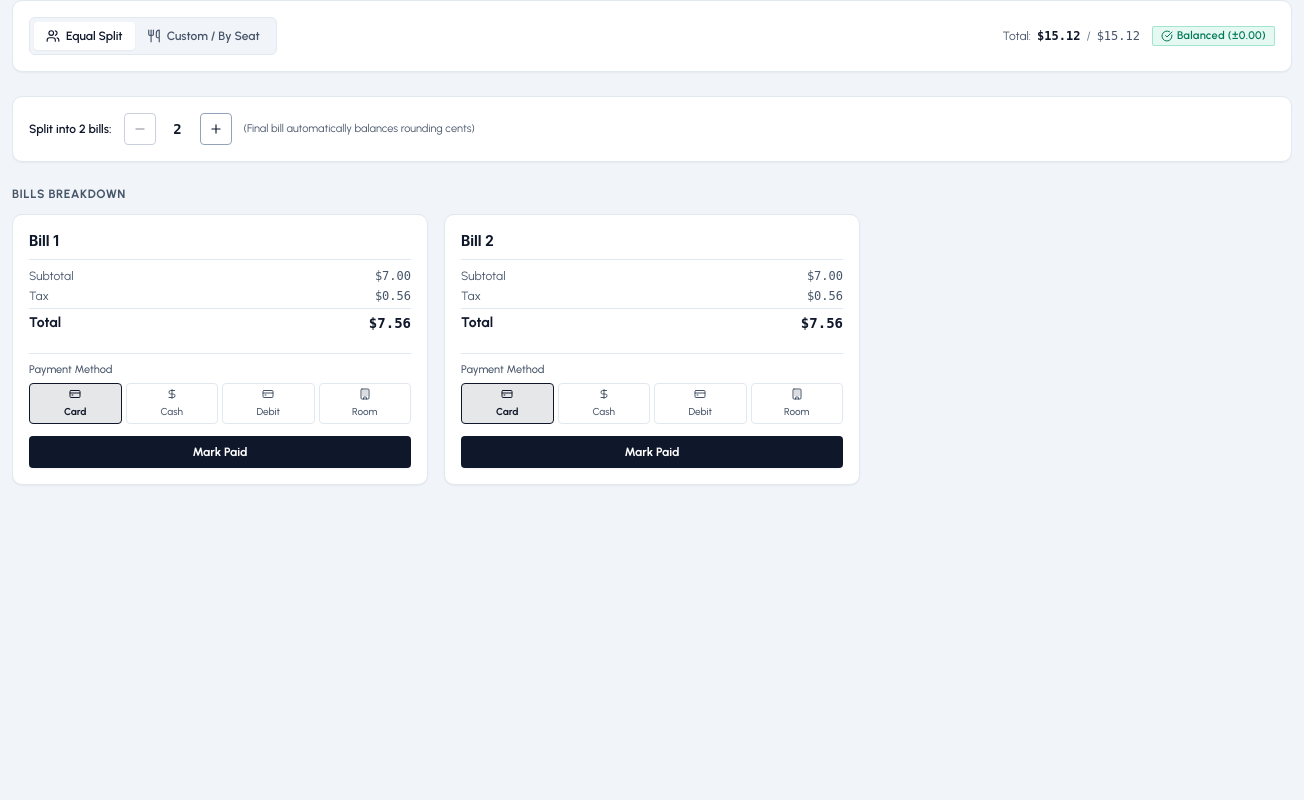
SplitBillAssignment › switches to Custom mode and renders item allocation matrix
Click the button "Custom / By Seat" at (203, 36), box [135, 22, 272, 50]
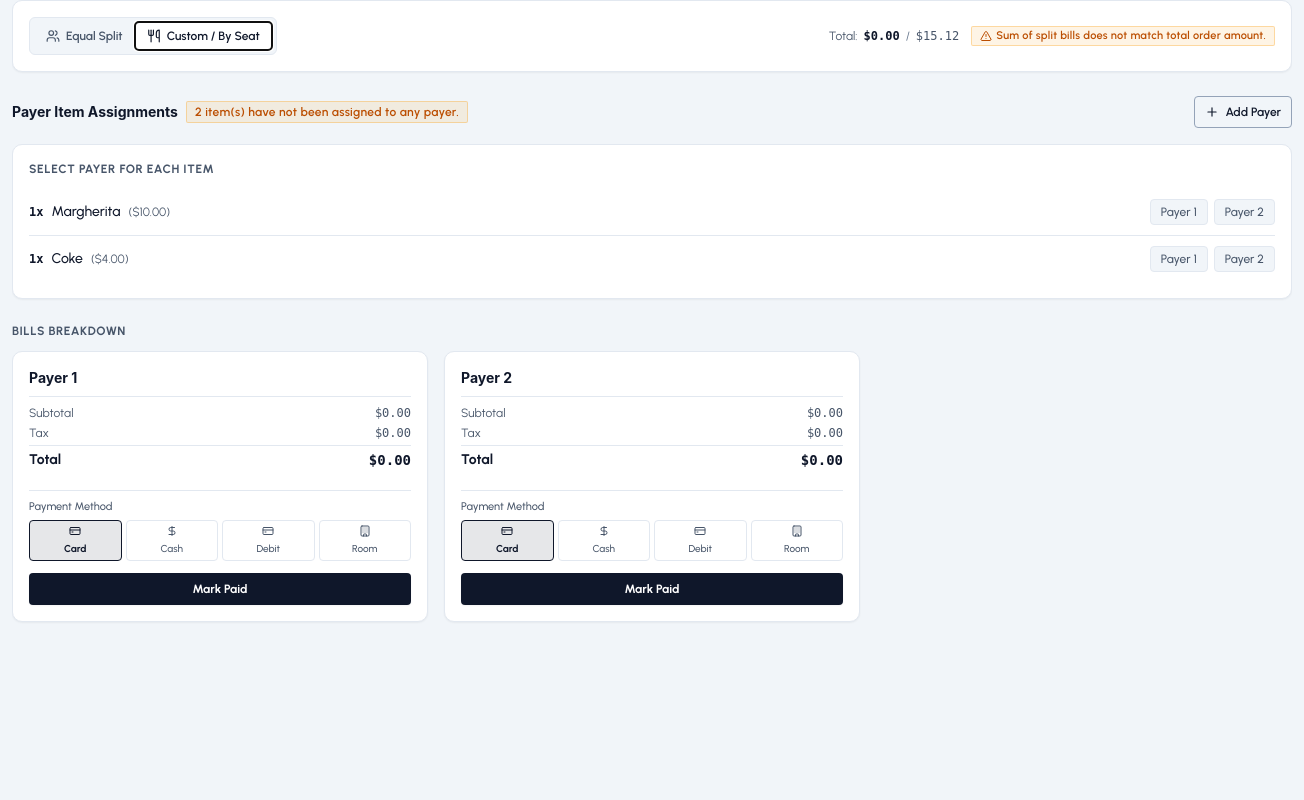
Result: the heading "Payer Item Assignments" is shown at [12, 102, 178, 122]
Result: the text "Margherita" is shown at [52, 202, 120, 222]
Result: the text "Coke" is shown at [52, 249, 83, 269]
